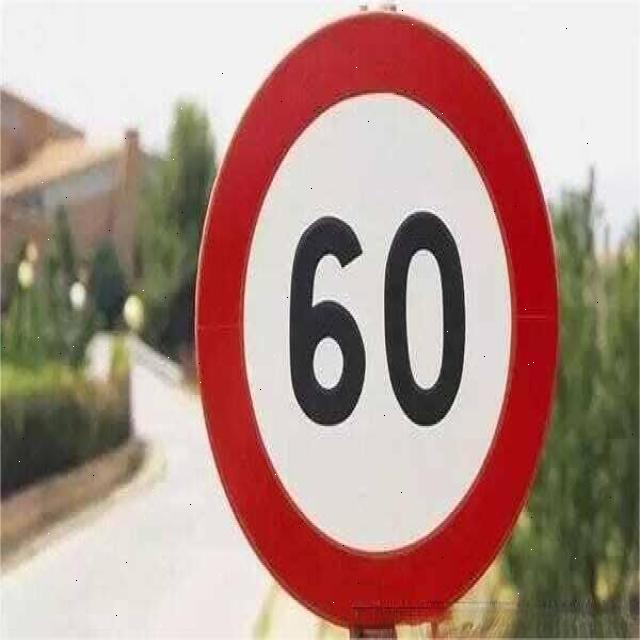speed limit 60: (195, 10, 559, 633)
